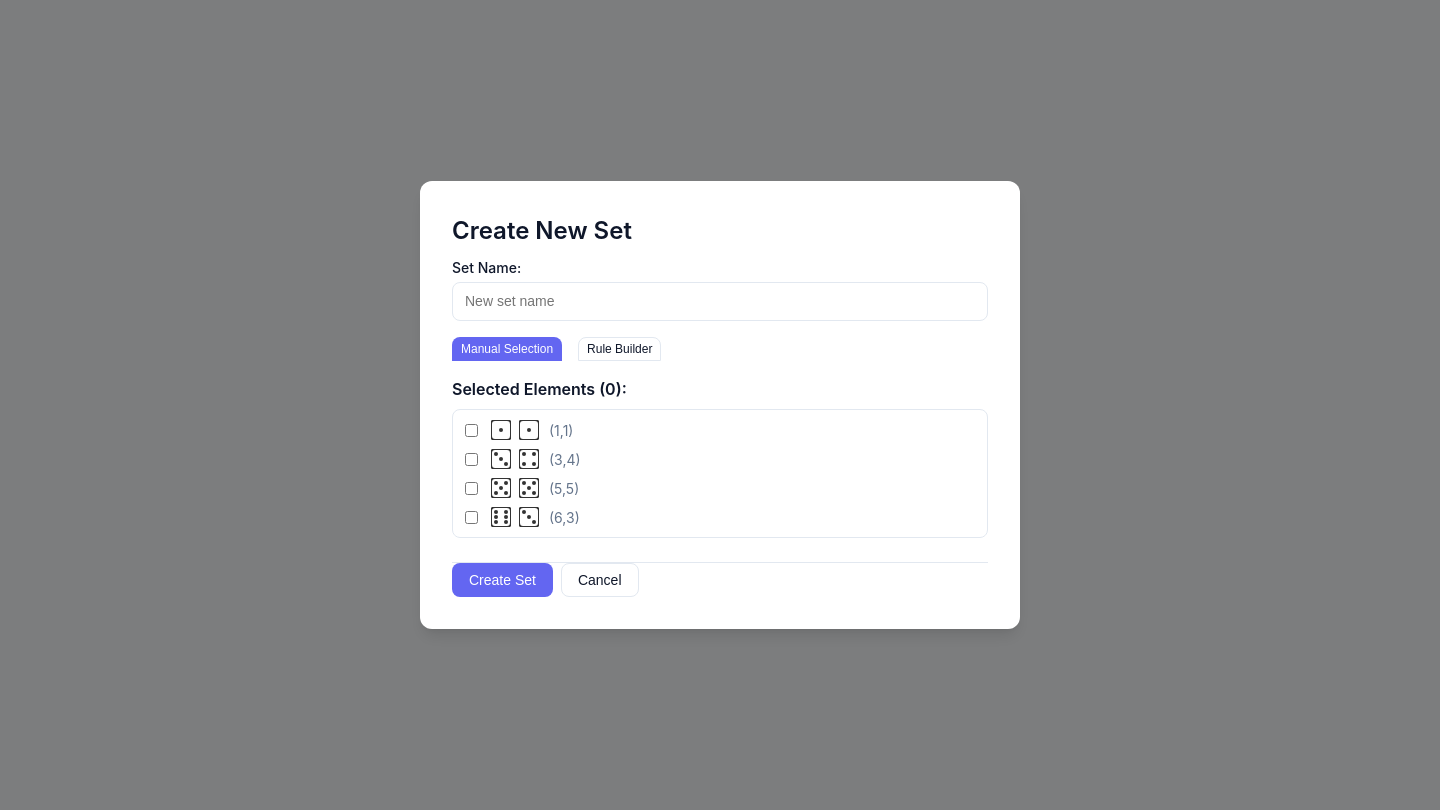
Test case: SetEditModal Smart Sets › applies SUM > 8 rule correctly
# Switch to Rule Mode
Click the button "Rule Builder" at point(620, 349), box left=578, top=337, right=662, bottom=361
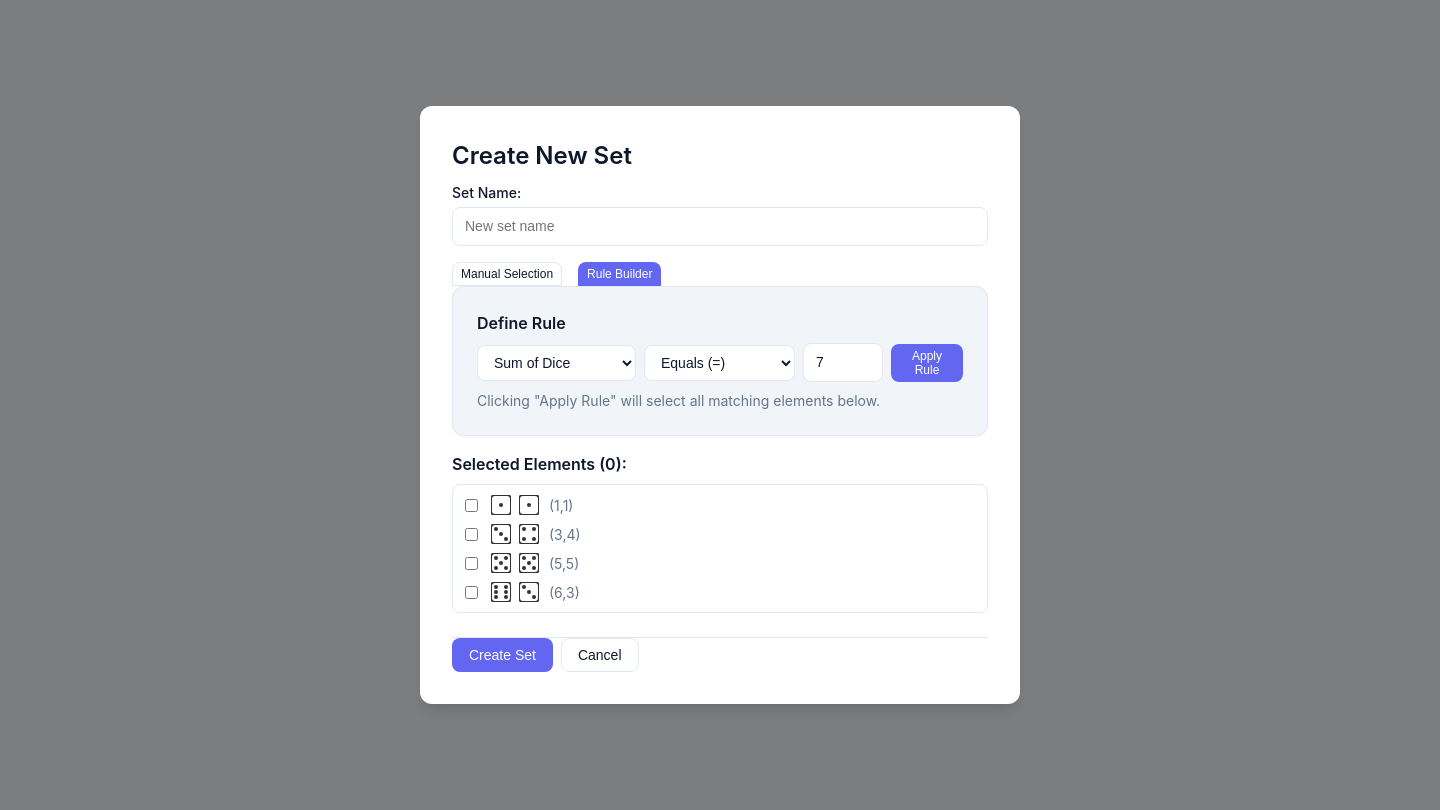
Select "Greater Than (>)" in the 2nd dropdown showing "Equals (=)" at point(720, 362), box left=644, top=344, right=795, bottom=380
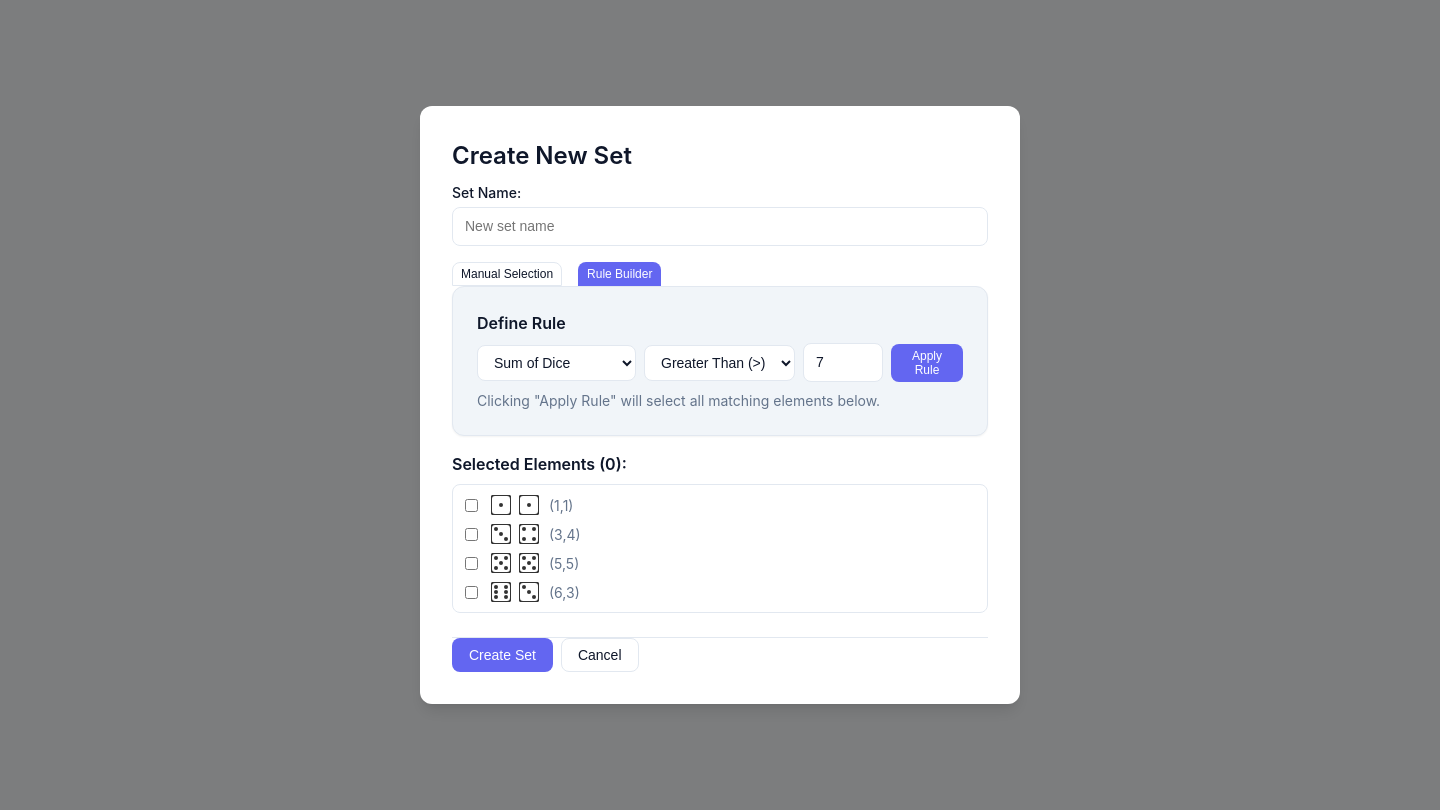
Replace the text in the number field showing "7" with "8" at point(843, 362), box left=803, top=343, right=883, bottom=382
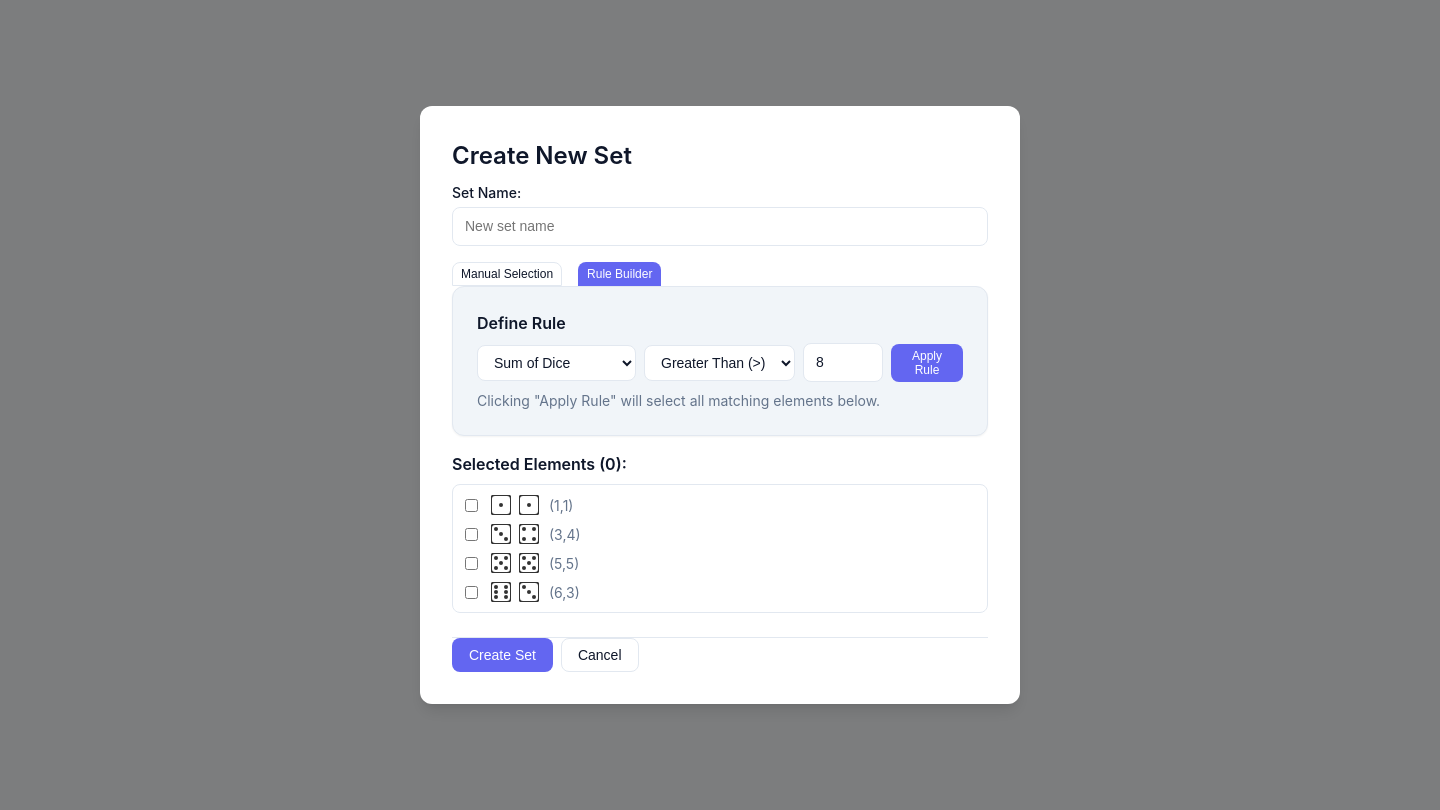
# Apply Rule
Click the button "Apply Rule" at point(927, 362), box left=891, top=344, right=963, bottom=382
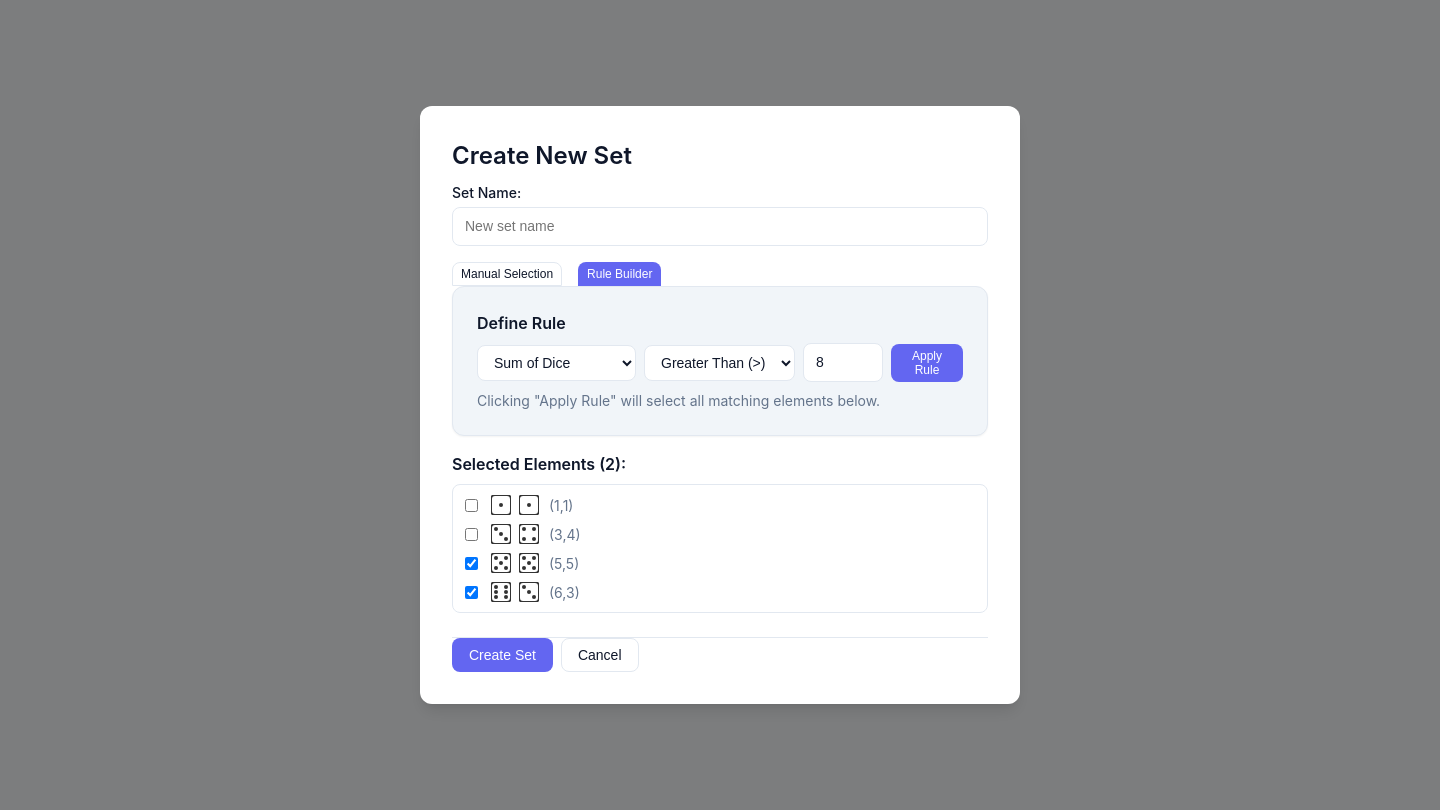
Expected: the checkbox labelled "(1,1)" is not checked, left=465, top=498, right=478, bottom=512
Result: the checkbox labelled "(5,5)" is checked at left=465, top=556, right=478, bottom=570
Result: the checkbox labelled "(6,3)" is checked at left=465, top=586, right=478, bottom=598
